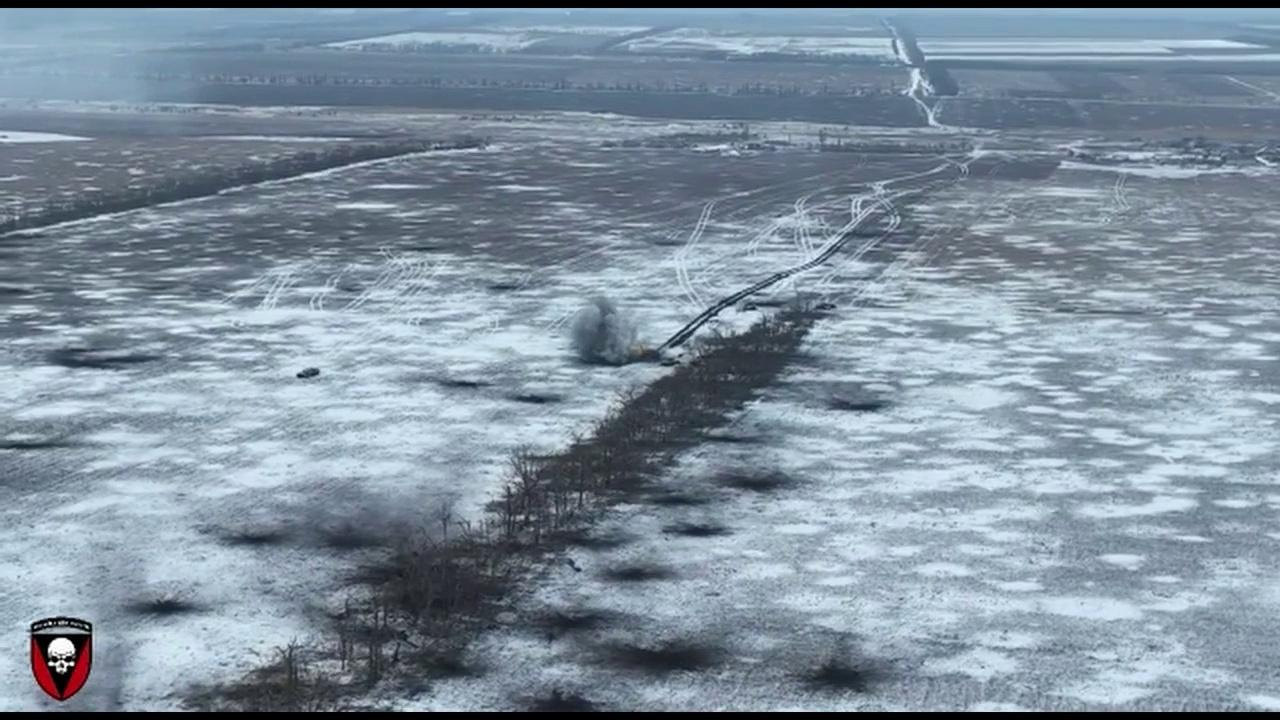vehicle: (295, 366, 318, 380), (660, 356, 679, 368)
